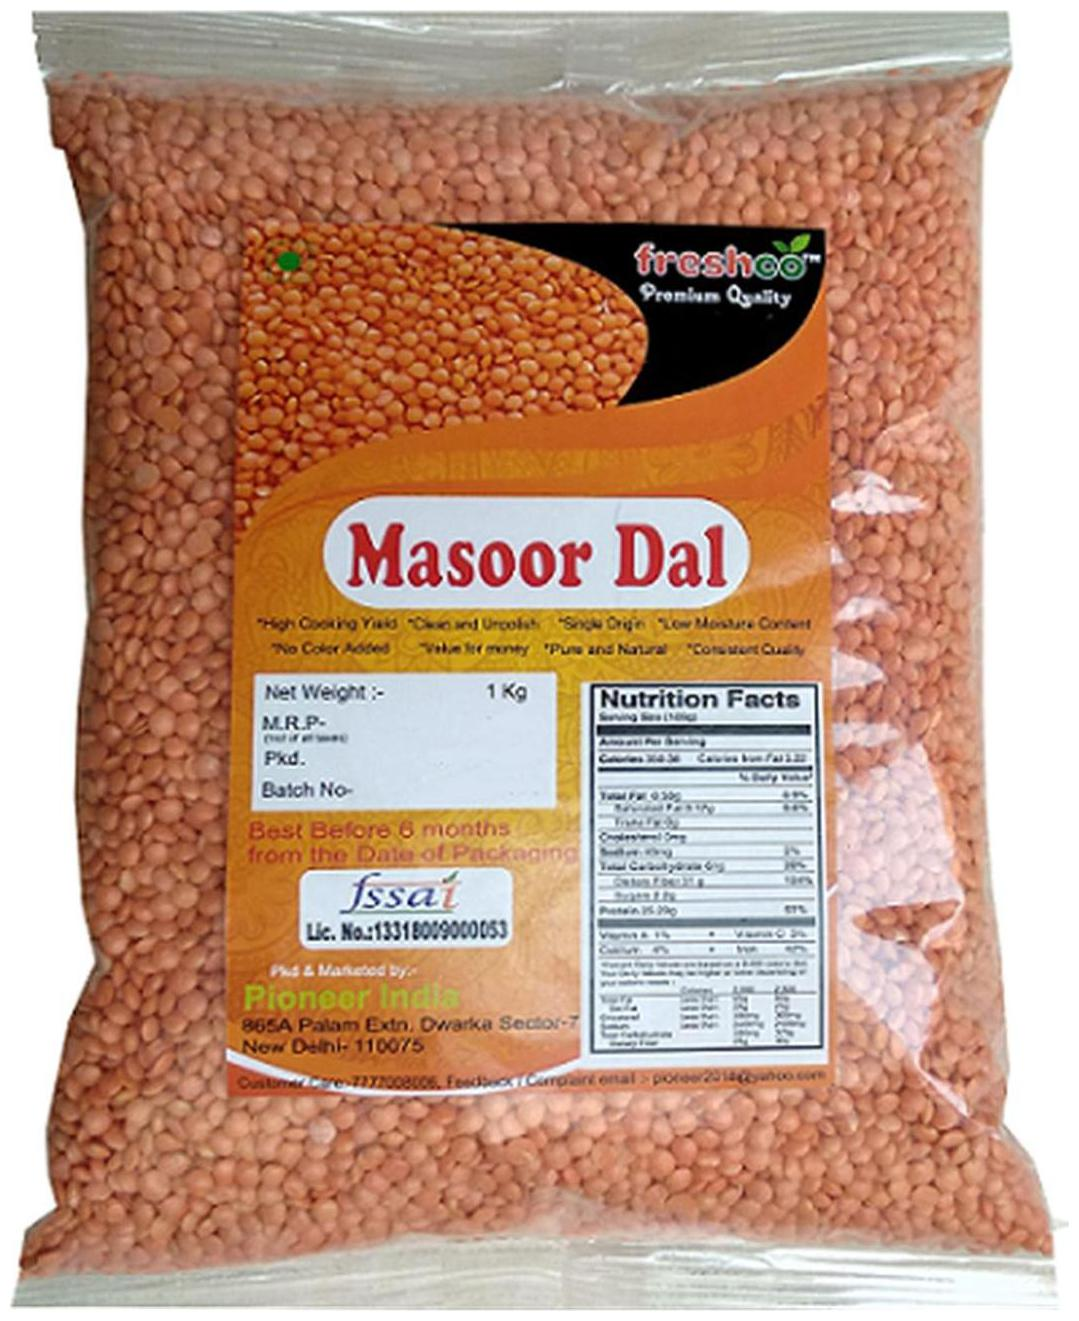fssai: (337, 872, 464, 916)
